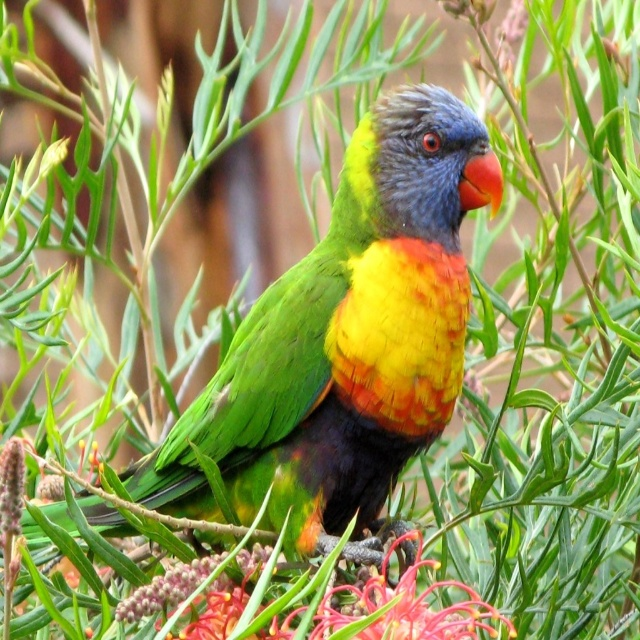Parrot: (20, 83, 504, 580)
